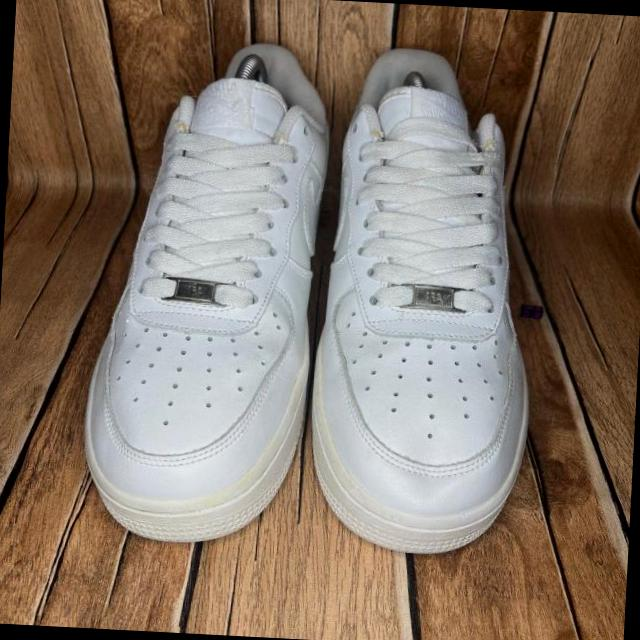nike_fake_airforce: (72, 29, 338, 550), (309, 43, 551, 560)
